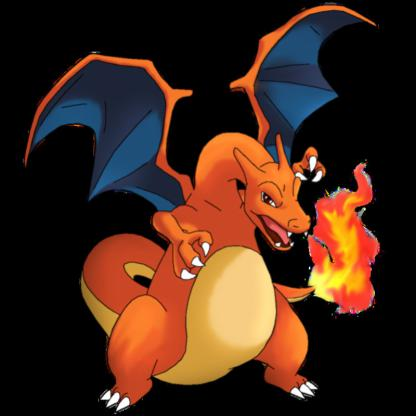Charizard: (17, 3, 384, 411)
